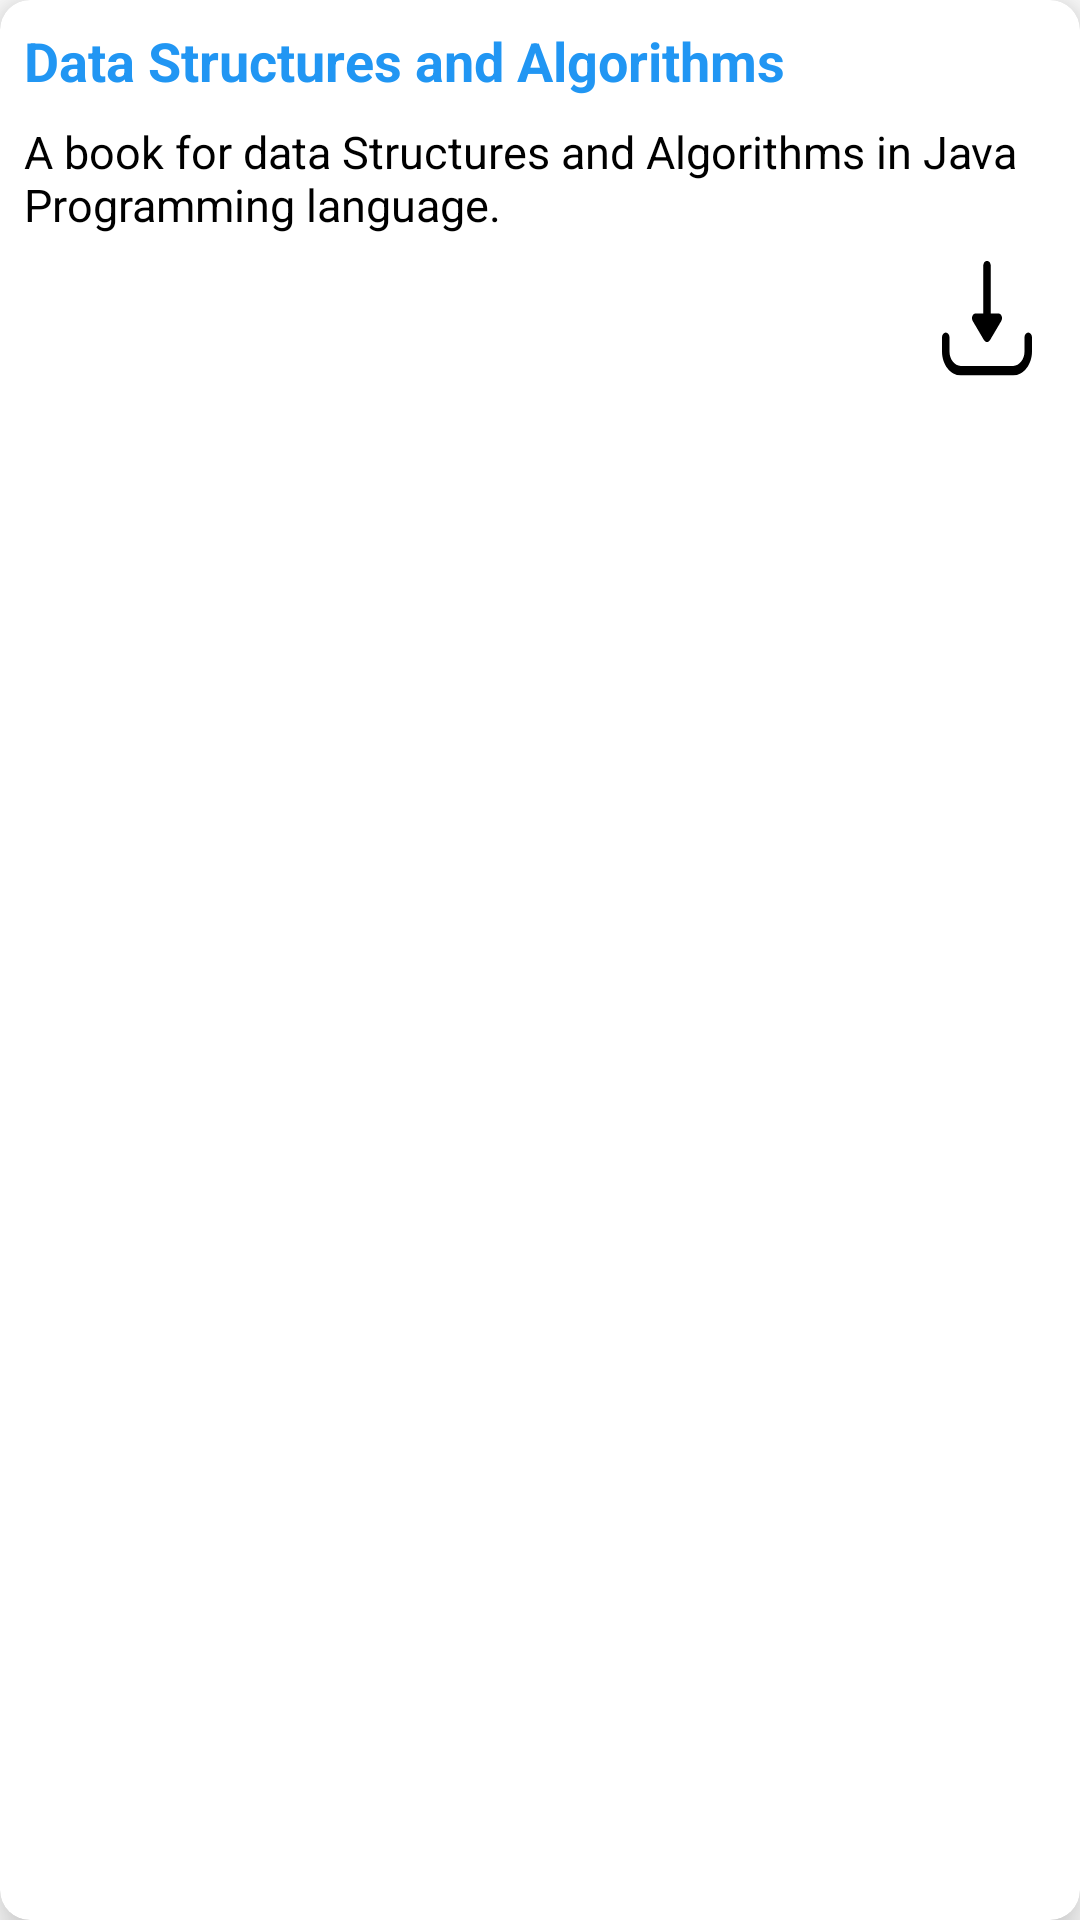

Point at icon controls on the screen. Image size 1080 x 1920, points as (x=x, y=y).
download: (x=987, y=318)
